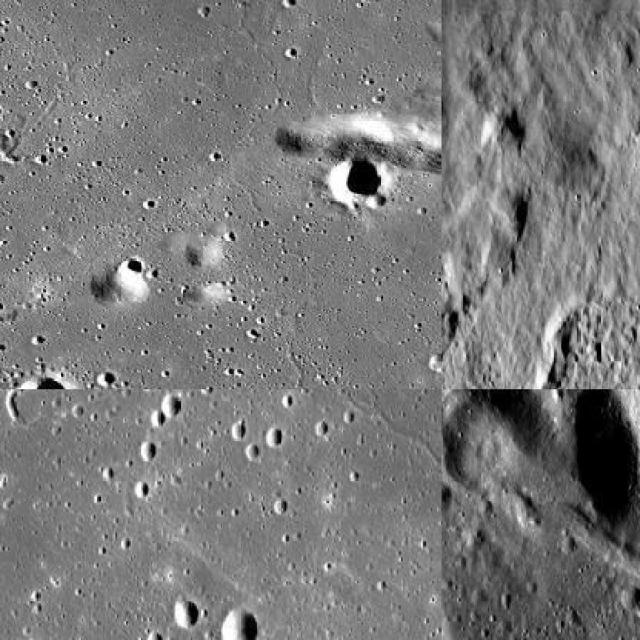rille: (120, 0, 340, 388), (143, 390, 440, 638), (442, 401, 638, 617), (482, 123, 638, 388)
